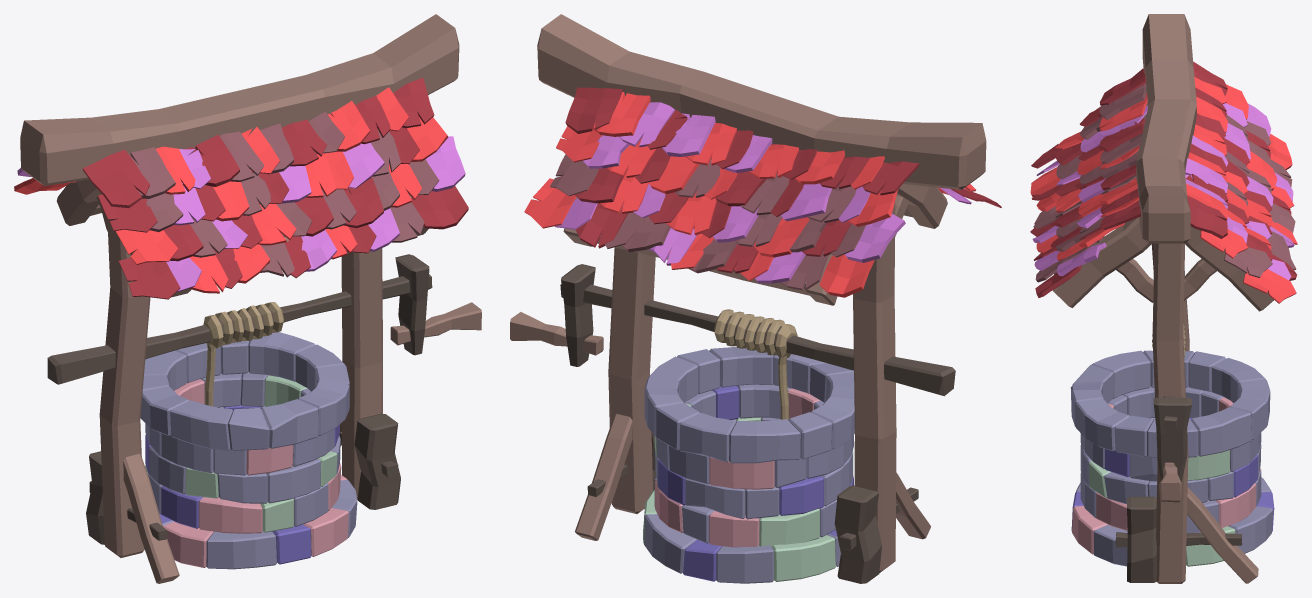
The model's file is StoneWell.fbx.
3 views of the same model, side by side, from view 1: azimuth 30°, elevation 25°; view 2: azimuth 150°, elevation 25°; view 3: azimuth 270°, elevation 25° (orthographic). The views are drawn at different scales.
Visible parts, largest first — view 1: Cube.047, Cube.001, Cube.006, Cube.005, Cube, Cube.017, Cube.023, Cube.021, Cylinder, Cube.018, Cube.019, Cube.011 (+1 smaller); view 2: Cube.133, Cube.001, Cube.006, Cube.005, Cube, Cube.017, Cube.022, Cube.020, Cylinder, Cube.018, Cube.019, Cube.012 (+1 smaller); view 3: Cube.001, Cube.133, Cube.047, Cube.006, Cube, Cube.135, Cube.023, Cube.018, Cube.020, Cube.007, Cube.010, Cube.019 (+2 smaller).
Boxes of the visible parts, x1,y1,x2,y2 form: Cube.047: (82, 78, 468, 299); Cube.001: (140, 332, 357, 569); Cube.006: (20, 14, 459, 186); Cube.005: (99, 219, 150, 557); Cube: (341, 248, 382, 499); Cube.017: (47, 274, 432, 384); Cube.023: (354, 413, 400, 509); Cube.021: (123, 454, 179, 583); Cylinder: (203, 302, 283, 348); Cube.018: (395, 254, 429, 355); Cube.019: (390, 302, 481, 345); Cube.011: (56, 179, 101, 225); Cube.133: (524, 87, 918, 297); Cube.001: (643, 346, 854, 583); Cube.006: (537, 14, 986, 189); Cube.005: (853, 201, 896, 572); Cube: (608, 247, 655, 513); Cube.017: (560, 284, 955, 396); Cube.022: (834, 485, 881, 583); Cube.020: (575, 414, 632, 540); Cylinder: (714, 309, 797, 357); Cube.018: (561, 264, 595, 366); Cube.019: (510, 312, 603, 355); Cube.012: (896, 184, 947, 228); Cube.001: (1070, 350, 1274, 566); Cube.133: (1185, 61, 1297, 303); Cube.047: (1030, 68, 1147, 297); Cube.006: (1136, 14, 1196, 243); Cube: (1152, 243, 1188, 583); Cube.135: (1053, 217, 1151, 307); Cube.023: (1127, 496, 1156, 582); Cube.018: (1153, 397, 1191, 482); Cube.020: (1187, 487, 1258, 583); Cube.007: (1185, 226, 1273, 311); Cube.010: (1116, 259, 1153, 302); Cube.019: (1159, 462, 1181, 502).
Size of the model in its own units: 3152 by 3061 by 1753.
